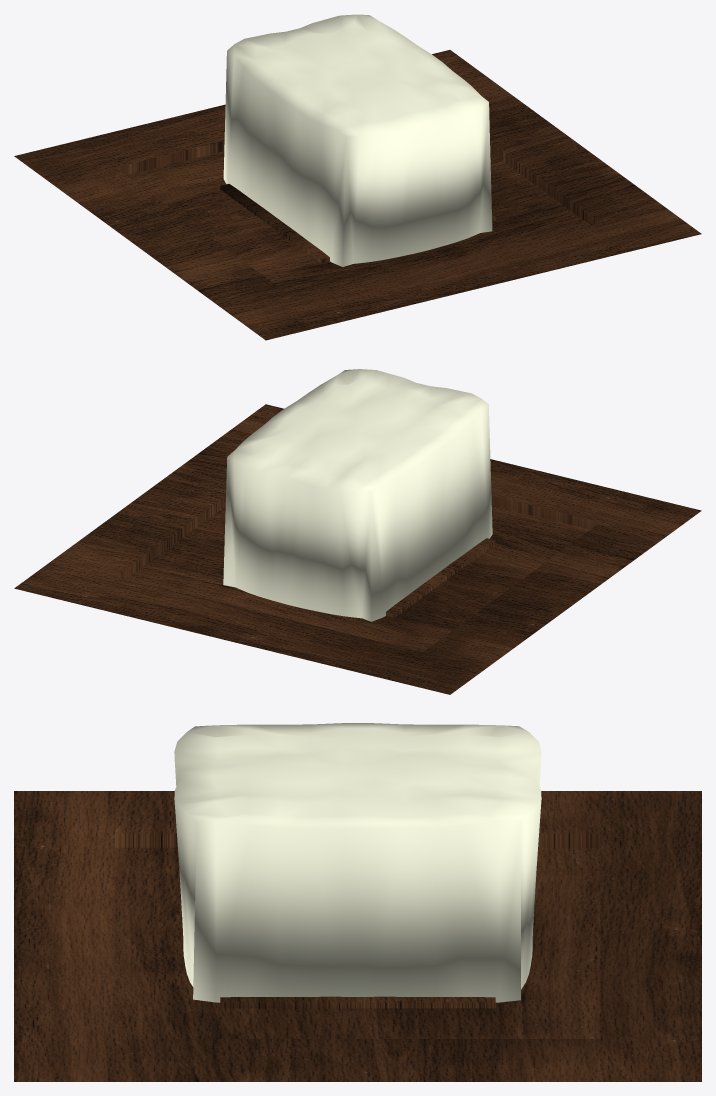
The model's file is queijo.dae.
3 views of the same model, one above another, from view 1: azimuth 30°, elevation 25°; view 2: azimuth 150°, elevation 25°; view 3: azimuth 270°, elevation 25° (orthographic). The views are drawn at different scales.
Visible parts, largest first — view 1: Plane, Cube; view 2: Plane, Cube; view 3: Plane, Cube.
Boxes of the visible parts, <box> form: Plane: <box>14,50,701,340</box>; Cube: <box>223,14,492,266</box>; Plane: <box>14,404,701,694</box>; Cube: <box>223,369,492,621</box>; Plane: <box>14,791,701,1081</box>; Cube: <box>174,723,541,1002</box>.
Size of the model in its own units: 0.2786 by 0.2786 by 0.1042.
2 materials, 1 textured.
